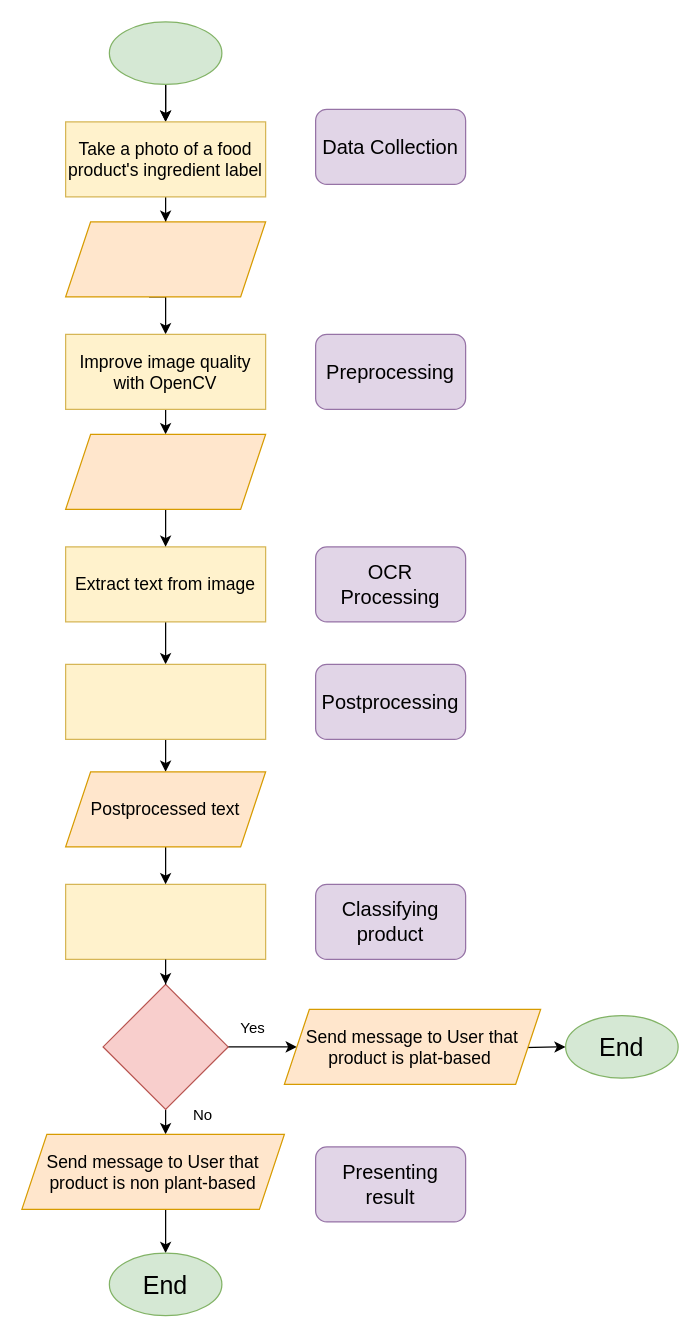
This 700x1338 diagram has some shape labels left out. Here are the shapes that lost their labels. From the top down, the box of each, then its label:
(108, 21, 222, 84): Start
(64, 221, 266, 297): Input image
(64, 433, 266, 509): Preprocessed image
(64, 663, 266, 739): Improve Extracted Text
(64, 883, 266, 959): Analyse ingredients
(102, 983, 228, 1109): Is it plant-based?
